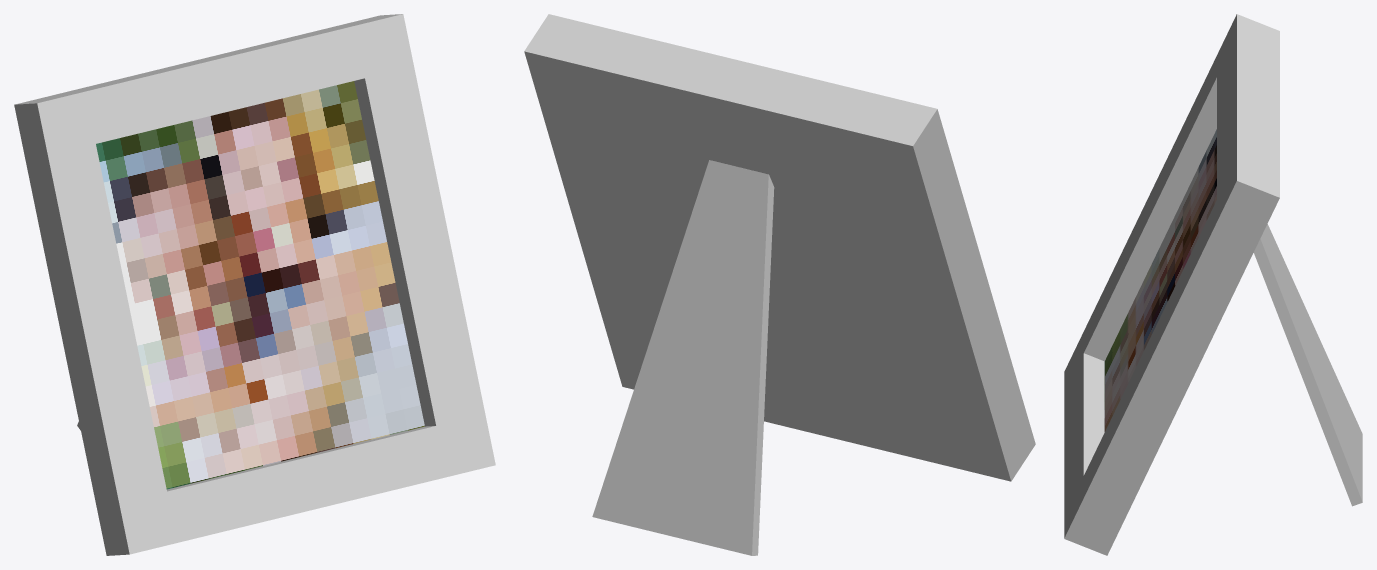
Rendered from Retrato.fbx.
3 views of the same model, side by side, from view 1: azimuth 30°, elevation 25°; view 2: azimuth 150°, elevation 25°; view 3: azimuth 270°, elevation 25° (orthographic). The views are drawn at different scales.
Visible parts, largest first — view 1: Foto, Marco; view 2: Marco, PATA; view 3: Marco, PATA, Foto.
Part boxes in pixels (x1,y1,x2,y2): Foto: [96, 81, 424, 489]; Marco: [14, 14, 495, 555]; Marco: [524, 14, 1035, 481]; PATA: [592, 160, 774, 555]; Marco: [1064, 14, 1279, 555]; PATA: [1253, 224, 1362, 506]; Foto: [1104, 129, 1216, 431].
Bounding box in the file's own units: 141 × 148 × 107.
Materials: 1 (1 with a texture image).
